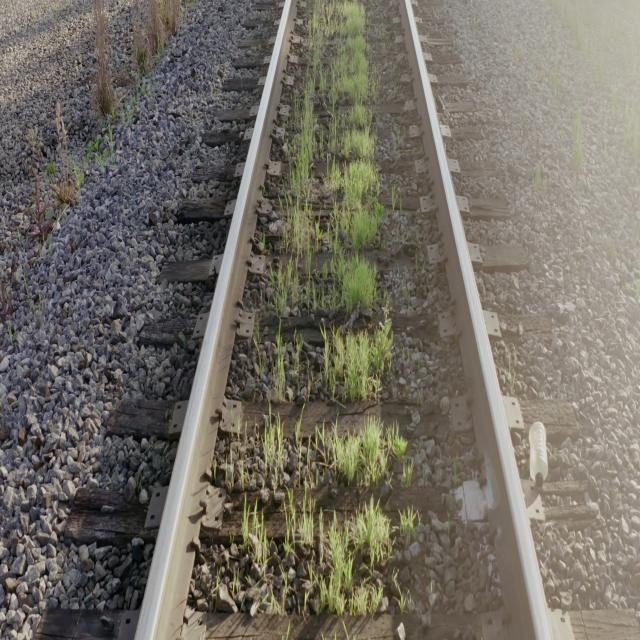Plant: (271, 0, 381, 313), (269, 453, 394, 613), (315, 418, 411, 487), (320, 311, 392, 402), (320, 513, 352, 616), (262, 416, 301, 482), (242, 502, 270, 589), (274, 336, 290, 400), (292, 338, 304, 371), (401, 516, 418, 536)
